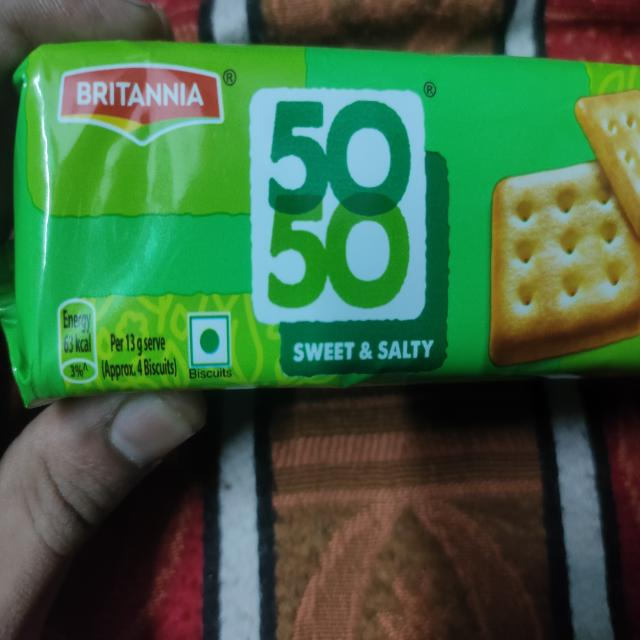biscuit: (12, 37, 640, 413)
